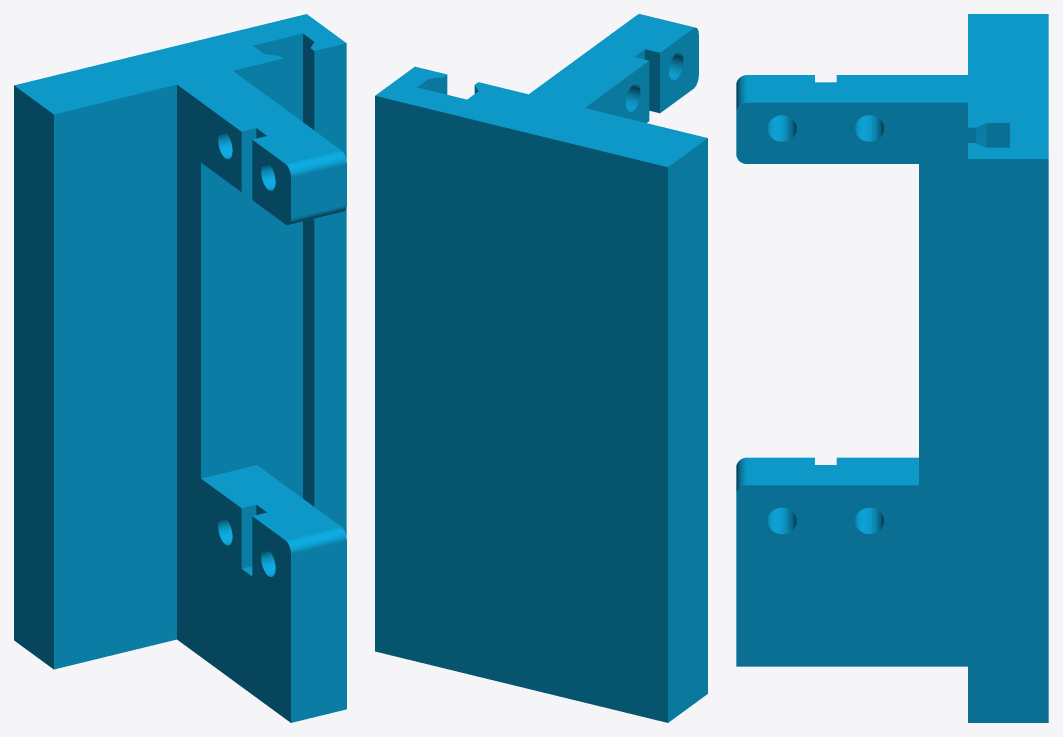
Rendered from mount.glb.
The picture shows the model from 3 angles, left to right: view 1: azimuth 30°, elevation 25°; view 2: azimuth 150°, elevation 25°; view 3: azimuth 270°, elevation 25°; orthographic projection.
Visible parts, largest first — view 1: mount; view 2: mount; view 3: mount.
Part boxes in pixels (x1,y1,x2,y2): mount: (14,14,346,722); mount: (375,14,707,722); mount: (736,14,1048,722).
Size of the model in its own units: 0.0393 by 0.0711 by 0.0357.
